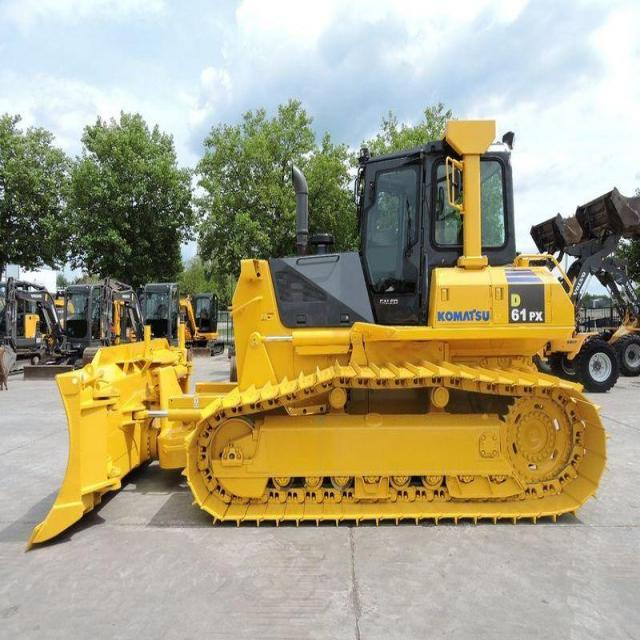Bulldozer: (28, 100, 607, 559)
